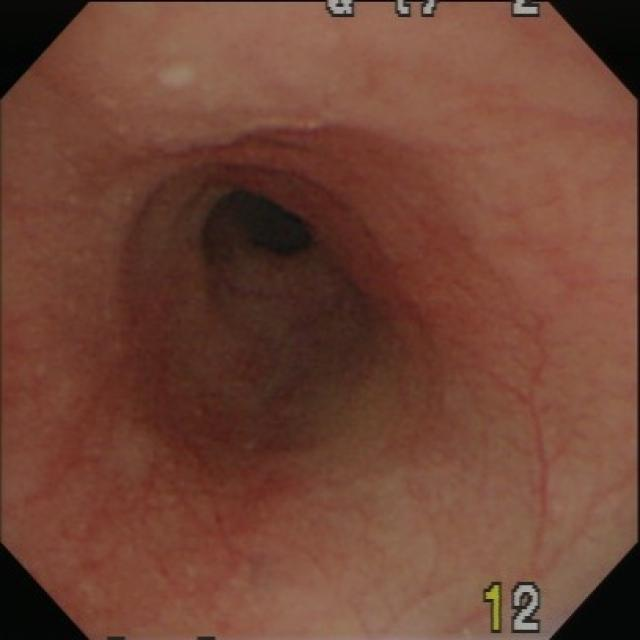E: (193, 169, 325, 277)
J: (154, 59, 202, 92)
S: (485, 581, 547, 636), (325, 3, 545, 18)
